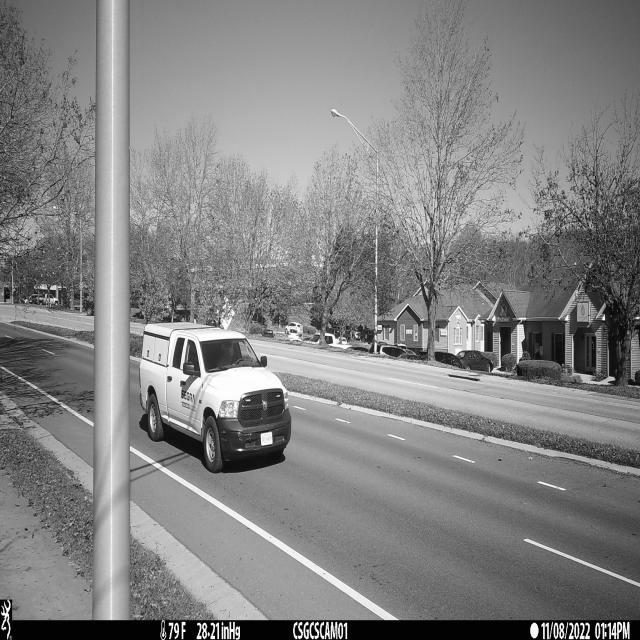Pickup- Utility: (139, 323, 291, 473)
